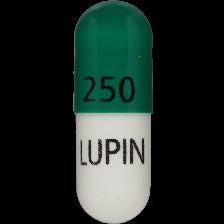68180-121: (0, 0, 224, 224)
